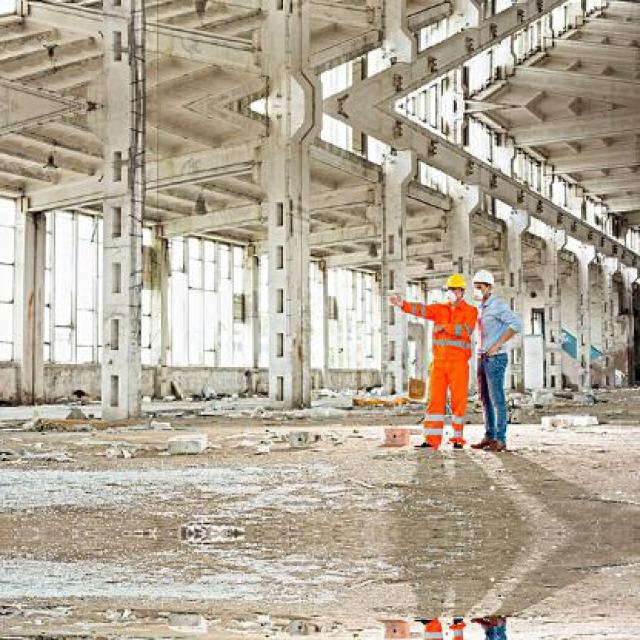helmet: (471, 268, 492, 296), (446, 273, 466, 299)
